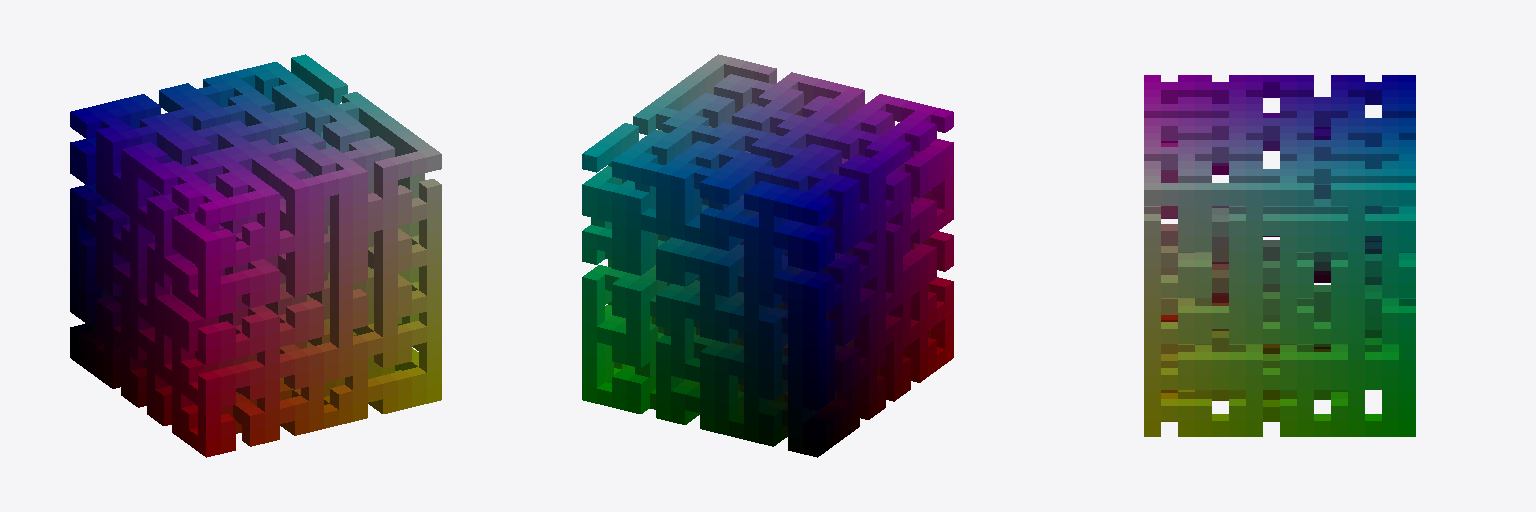
File: maze16.obj
3 views of the same model, side by side, from view 1: azimuth 30°, elevation 25°; view 2: azimuth 150°, elevation 25°; view 3: azimuth 270°, elevation 25° (orthographic).
Visible parts, largest first — view 1: maze16; view 2: maze16; view 3: maze16.
Part boxes in pixels (bbox=[...]): maze16: bbox=[70, 54, 441, 457]; maze16: bbox=[582, 54, 953, 457]; maze16: bbox=[1144, 75, 1415, 436].
Bounding box in the file's own units: 1.6 × 1.6 × 1.6.